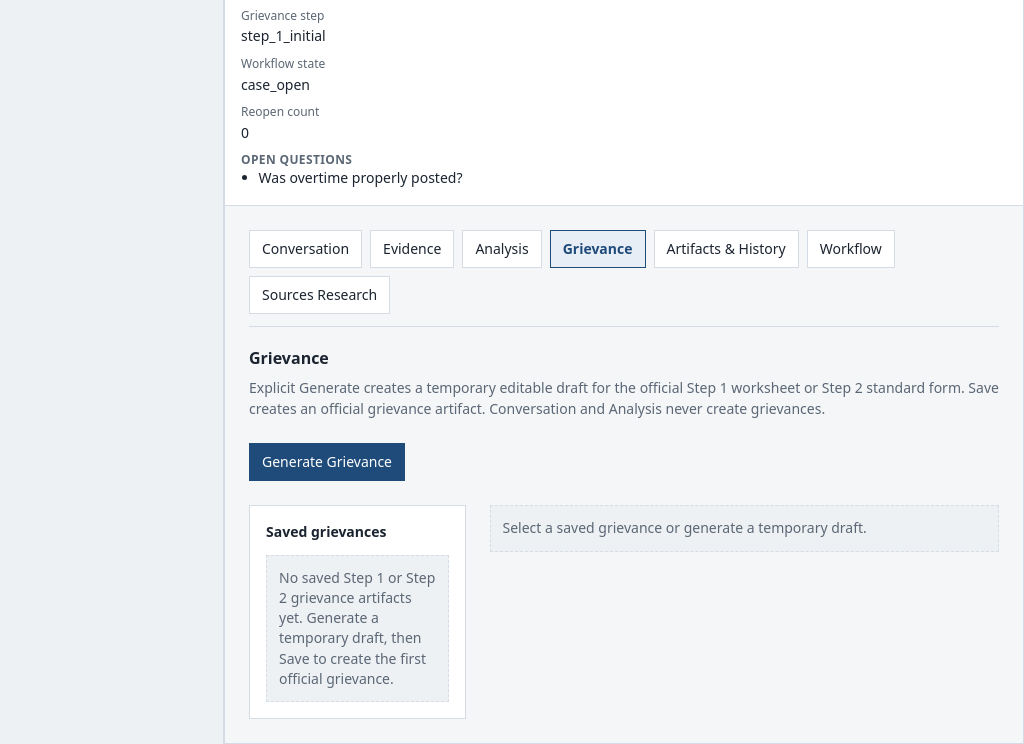
Test: W6 M6 Grievance workspace › renders Step 2 template when supplied and accepts only Step 1/2 IDs
The image size is (1024, 744).
(page scrolled)
Click the button "Generate Grievance": x=327, y=462 x1=249 y1=443 x2=405 y2=481
(page scrolled)
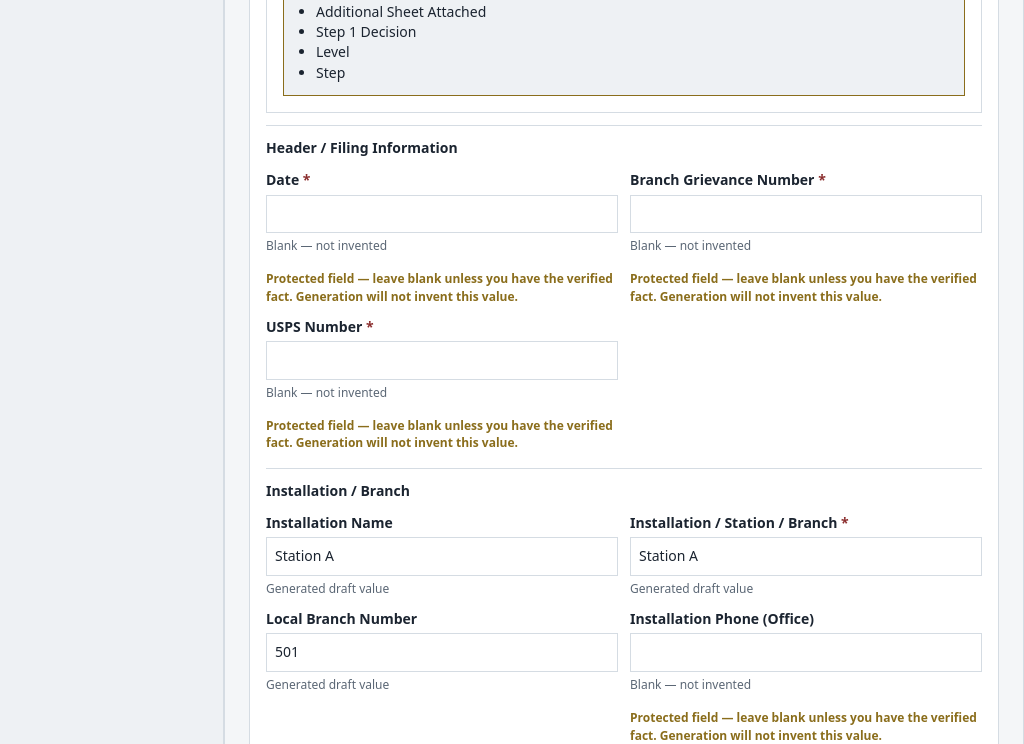
Result: the field labelled "USPS Number *" is shown at x1=266 y1=341 x2=618 y2=380
